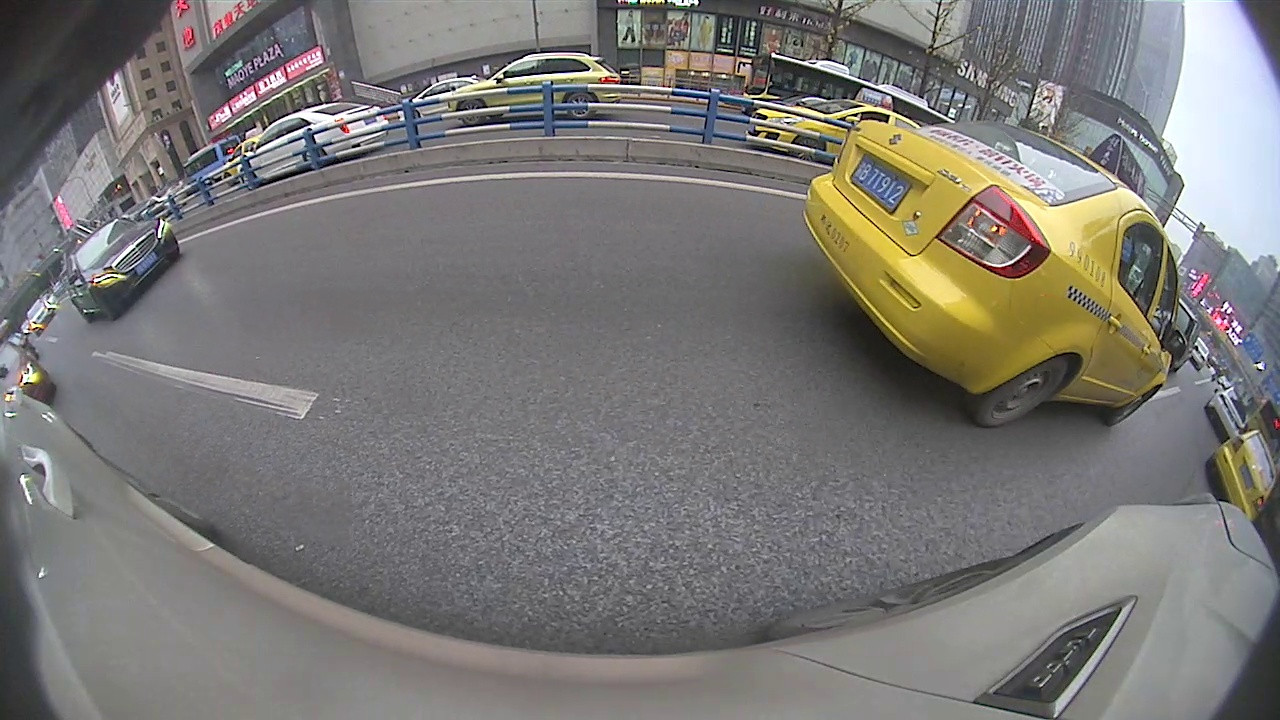car: (800, 116, 1192, 429), (233, 98, 393, 192), (743, 84, 923, 166), (448, 50, 623, 127), (63, 215, 182, 323), (1204, 428, 1278, 527)
front: (457, 97, 488, 129)
rear: (977, 357, 1070, 428), (566, 92, 598, 120)
